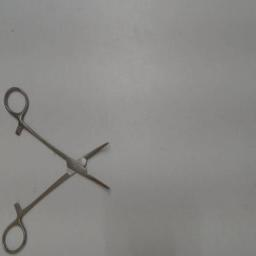Crile Artery Forceps: (1, 83, 117, 255)
